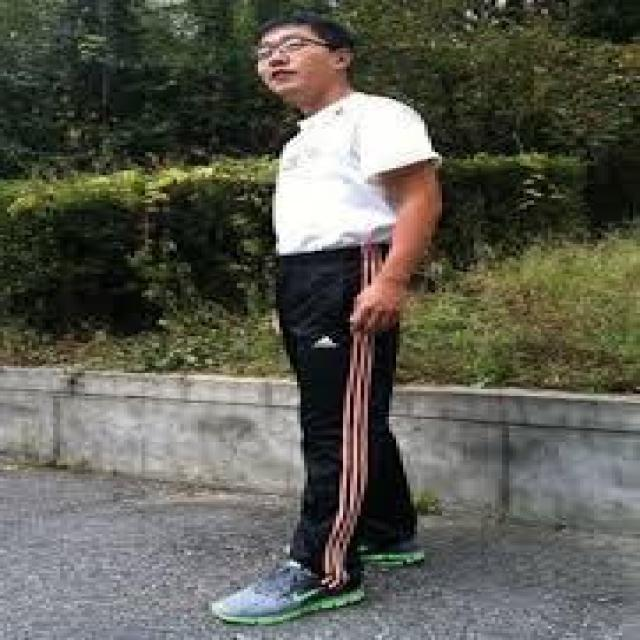Tshirt: (267, 92, 447, 260)
pants: (271, 243, 426, 572)
